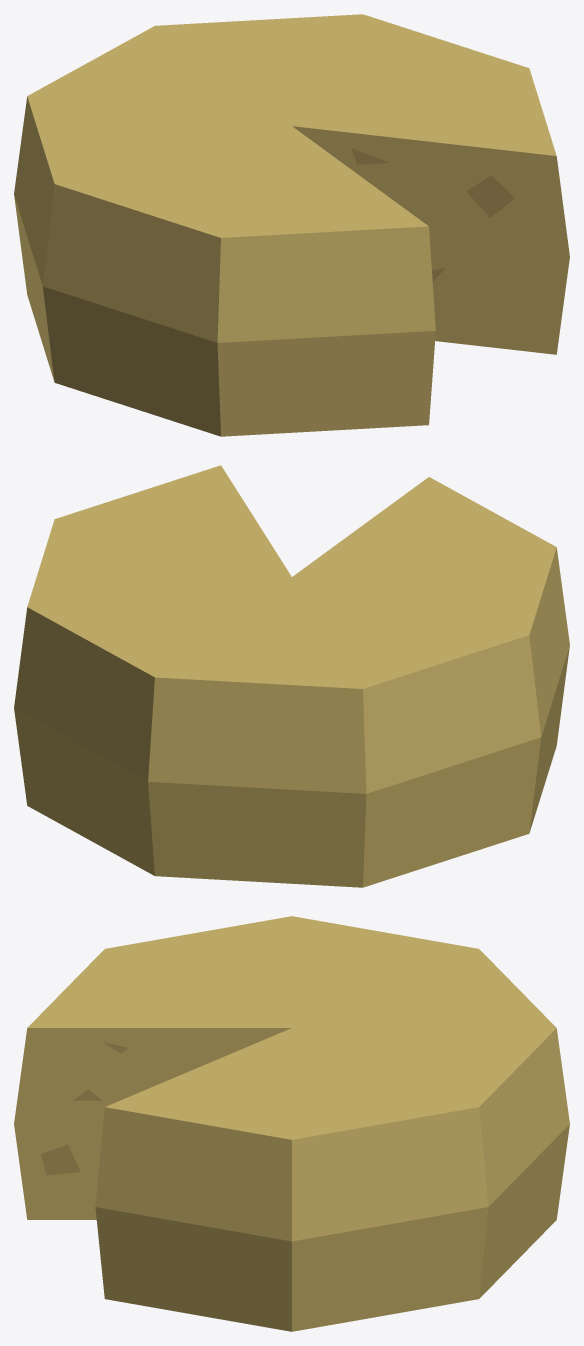
File: Cheese2.fbx
3 views of the same model, one above another, from view 1: azimuth 30°, elevation 25°; view 2: azimuth 150°, elevation 25°; view 3: azimuth 270°, elevation 25° (orthographic). The views are drawn at different scales.
Visible parts, largest first — view 1: Cylinder; view 2: Cylinder; view 3: Cylinder.
Part boxes in pixels (x1,y1,x2,y2): Cylinder: (14,14,569,436); Cylinder: (14,465,569,887); Cylinder: (14,916,569,1331).
Size of the model in its own units: 0.63 by 0.24 by 0.63.
